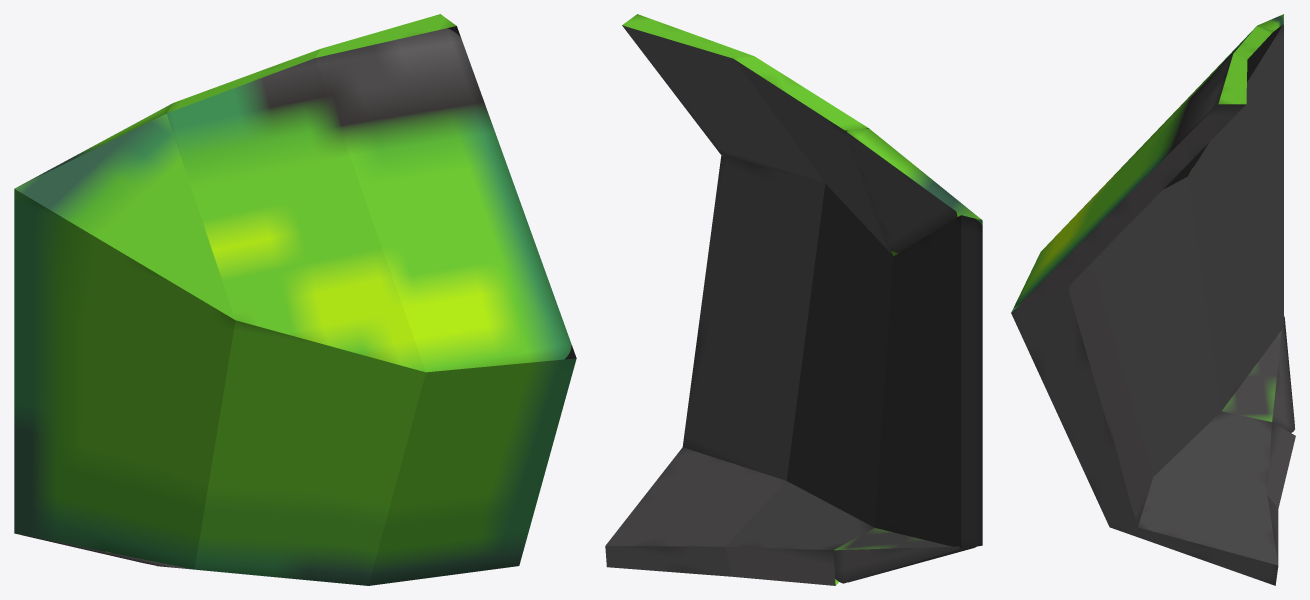
The model's file is coupler_fairing.obj.
The picture shows the model from 3 angles, left to right: view 1: azimuth 30°, elevation 25°; view 2: azimuth 150°, elevation 25°; view 3: azimuth 270°, elevation 25°; orthographic projection. The views are drawn at different scales.
Visible parts, largest first — view 1: 车钩整流罩; view 2: 车钩整流罩; view 3: 车钩整流罩.
Boxes of the visible parts, x1,y1,x2,y2 form: 车钩整流罩: [14, 14, 576, 585]; 车钩整流罩: [605, 14, 982, 585]; 车钩整流罩: [1011, 14, 1295, 585].
Bounding box in the file's own units: 0.8897 × 1.18 × 0.6326.
